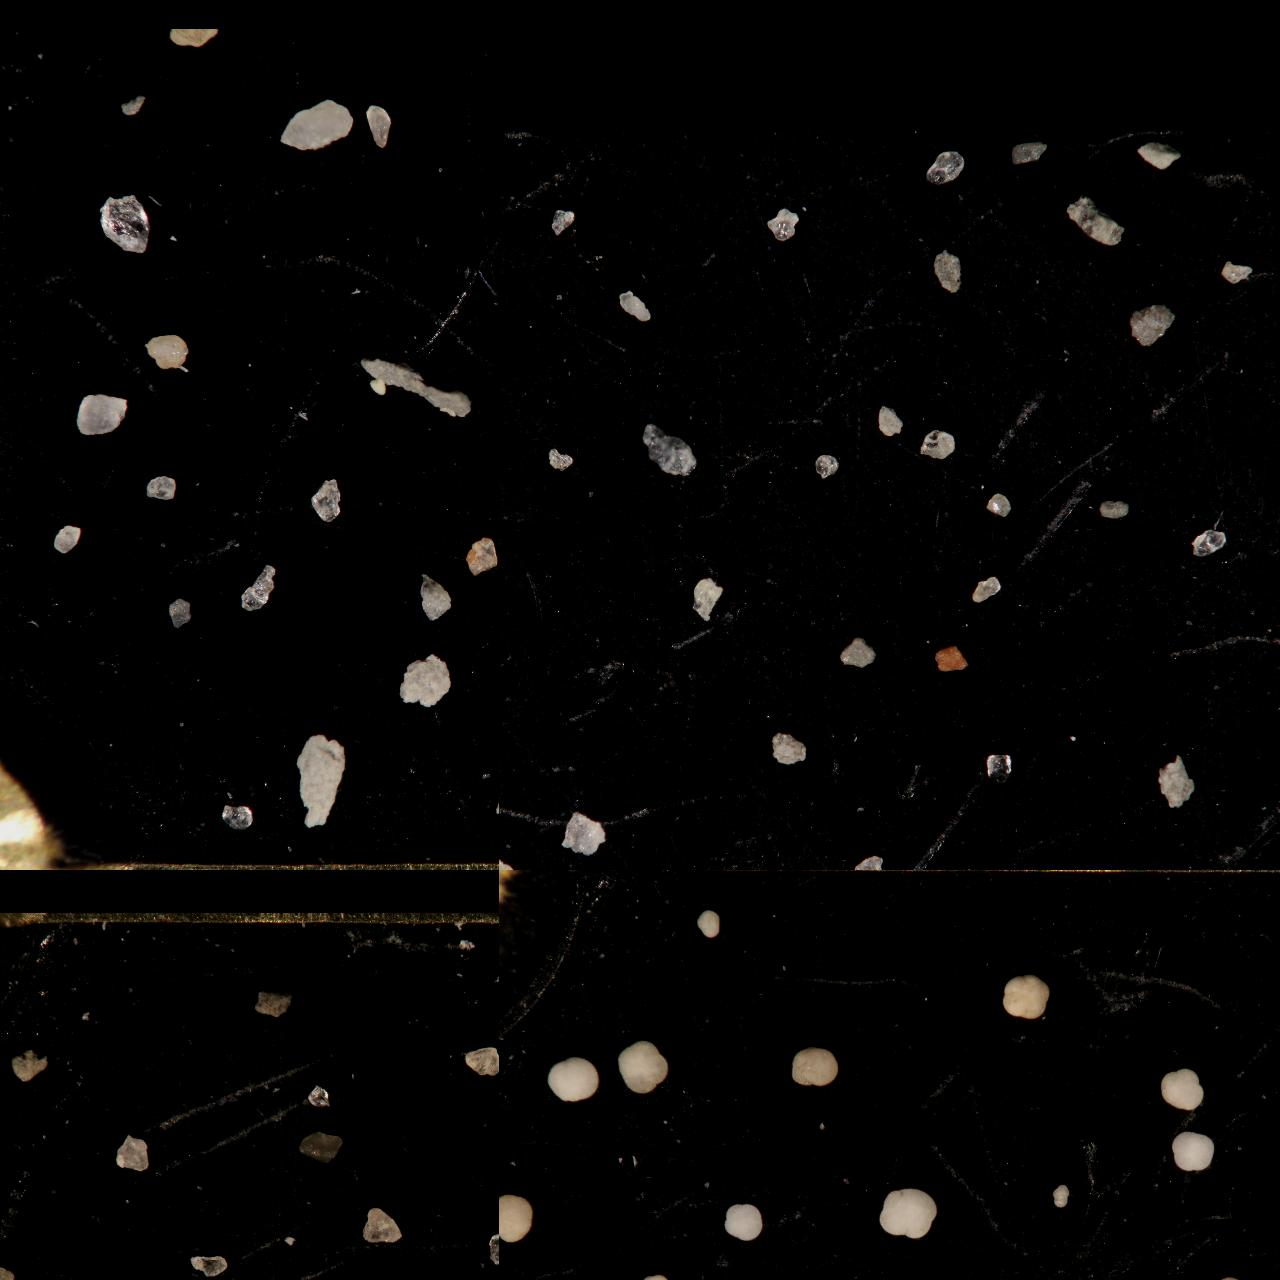Sediment: (360, 358, 470, 417), (297, 735, 347, 830), (279, 98, 354, 151), (640, 422, 700, 477), (97, 195, 151, 254), (1065, 195, 1125, 247), (401, 653, 454, 706), (77, 392, 130, 436), (234, 564, 279, 613), (1128, 304, 1178, 347), (1157, 754, 1197, 808), (560, 810, 608, 855), (418, 572, 454, 622), (145, 333, 189, 372), (689, 577, 726, 622), (298, 1129, 345, 1163), (360, 1205, 402, 1242), (309, 478, 342, 524), (925, 150, 967, 184), (253, 987, 297, 1020), (1136, 139, 1184, 169), (115, 1132, 151, 1171), (465, 535, 499, 576), (933, 247, 964, 293), (769, 731, 809, 765), (764, 206, 802, 241), (11, 1048, 49, 1081), (837, 636, 878, 667), (462, 1044, 499, 1077), (919, 429, 958, 461), (365, 104, 393, 148), (1191, 529, 1230, 558), (618, 291, 654, 321), (933, 646, 971, 673), (1010, 141, 1048, 166), (876, 404, 906, 436), (53, 524, 83, 554), (971, 574, 1002, 604), (220, 803, 254, 830), (168, 595, 195, 629), (1219, 259, 1254, 285), (189, 1253, 227, 1276), (985, 753, 1014, 783), (170, 29, 220, 47), (143, 474, 177, 499), (499, 157, 522, 196), (549, 207, 579, 234), (499, 470, 520, 508), (1097, 498, 1133, 519), (545, 445, 576, 470), (813, 452, 840, 479), (499, 738, 517, 779), (986, 492, 1013, 517), (307, 1083, 333, 1108), (499, 561, 517, 597), (499, 288, 517, 322), (120, 95, 149, 115), (499, 823, 517, 856), (499, 418, 516, 454), (850, 855, 885, 870), (499, 416, 517, 445), (499, 342, 515, 375), (499, 368, 513, 402), (499, 853, 525, 870), (499, 613, 516, 639), (499, 316, 513, 346), (488, 1228, 499, 1264), (368, 377, 388, 397), (499, 229, 515, 253), (499, 544, 515, 567), (499, 483, 513, 505), (0, 1265, 16, 1280), (499, 626, 512, 642)
planktic: (878, 1186, 939, 1239), (614, 1039, 672, 1094), (546, 1055, 600, 1101), (1001, 974, 1051, 1020), (789, 1044, 840, 1085), (1158, 1067, 1205, 1111), (1170, 1130, 1216, 1172), (723, 1201, 765, 1242), (499, 1193, 535, 1242), (695, 910, 722, 939), (1051, 1184, 1073, 1208)
